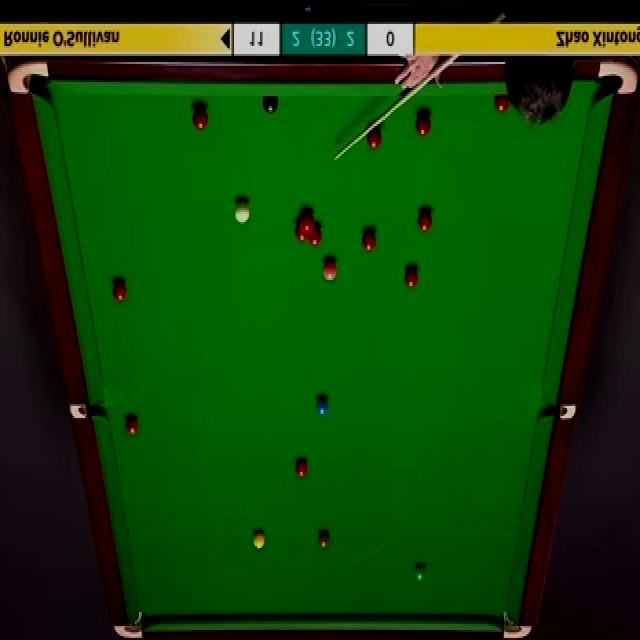black-ball: (262, 95, 279, 114)
blue-ball: (315, 395, 329, 418)
brown-ball: (316, 529, 330, 552)
green-ball: (412, 562, 427, 582)
pink-ball: (323, 258, 338, 286)
red-ball: (403, 262, 420, 291), (111, 277, 128, 304), (414, 111, 431, 137), (192, 106, 209, 131), (366, 125, 382, 151), (124, 412, 140, 438), (417, 210, 432, 235), (361, 228, 376, 253), (294, 458, 310, 481), (308, 222, 322, 246), (494, 94, 510, 114), (301, 210, 314, 230), (295, 222, 308, 242)
white-ball: (233, 194, 252, 226)
yellow-ball: (252, 531, 265, 551)
